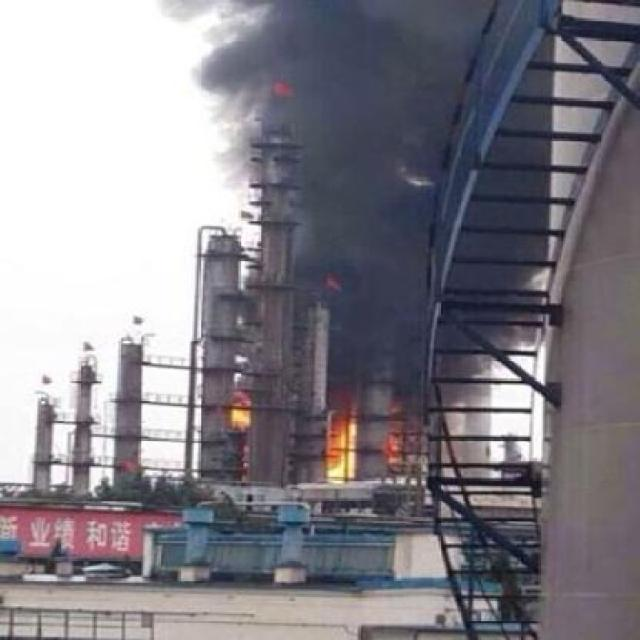Smoke: (249, 4, 457, 393), (329, 396, 356, 491), (387, 391, 409, 475), (234, 393, 254, 437)
